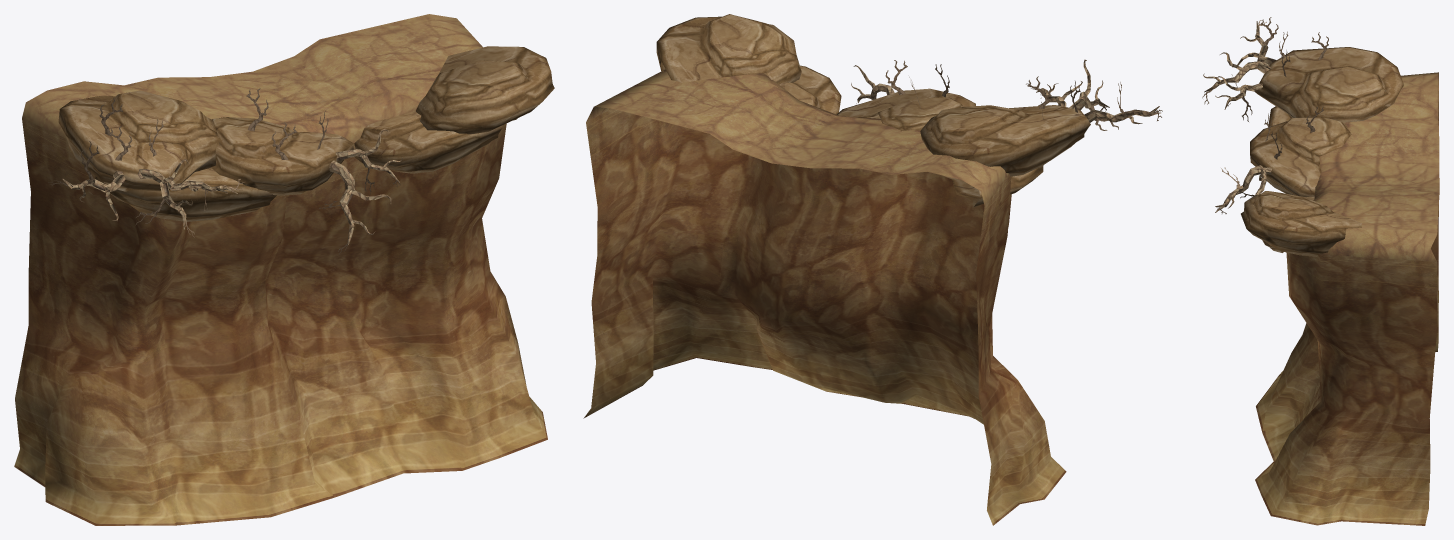
The model's file is desert cliff.FBX.
The picture shows the model from 3 angles, left to right: view 1: azimuth 30°, elevation 25°; view 2: azimuth 150°, elevation 25°; view 3: azimuth 270°, elevation 25°; orthographic projection. The views are drawn at different scales.
Parts seen in each view (by area): view 1: desert cliff; view 2: desert cliff; view 3: desert cliff.
Part boxes in pixels (left/top/right/bottom): desert cliff: left=14, top=14, right=554, bottom=525; desert cliff: left=583, top=14, right=1162, bottom=525; desert cliff: left=1202, top=17, right=1439, bottom=525.
Bounding box in the file's own units: 30.24 × 22.96 × 15.18.
